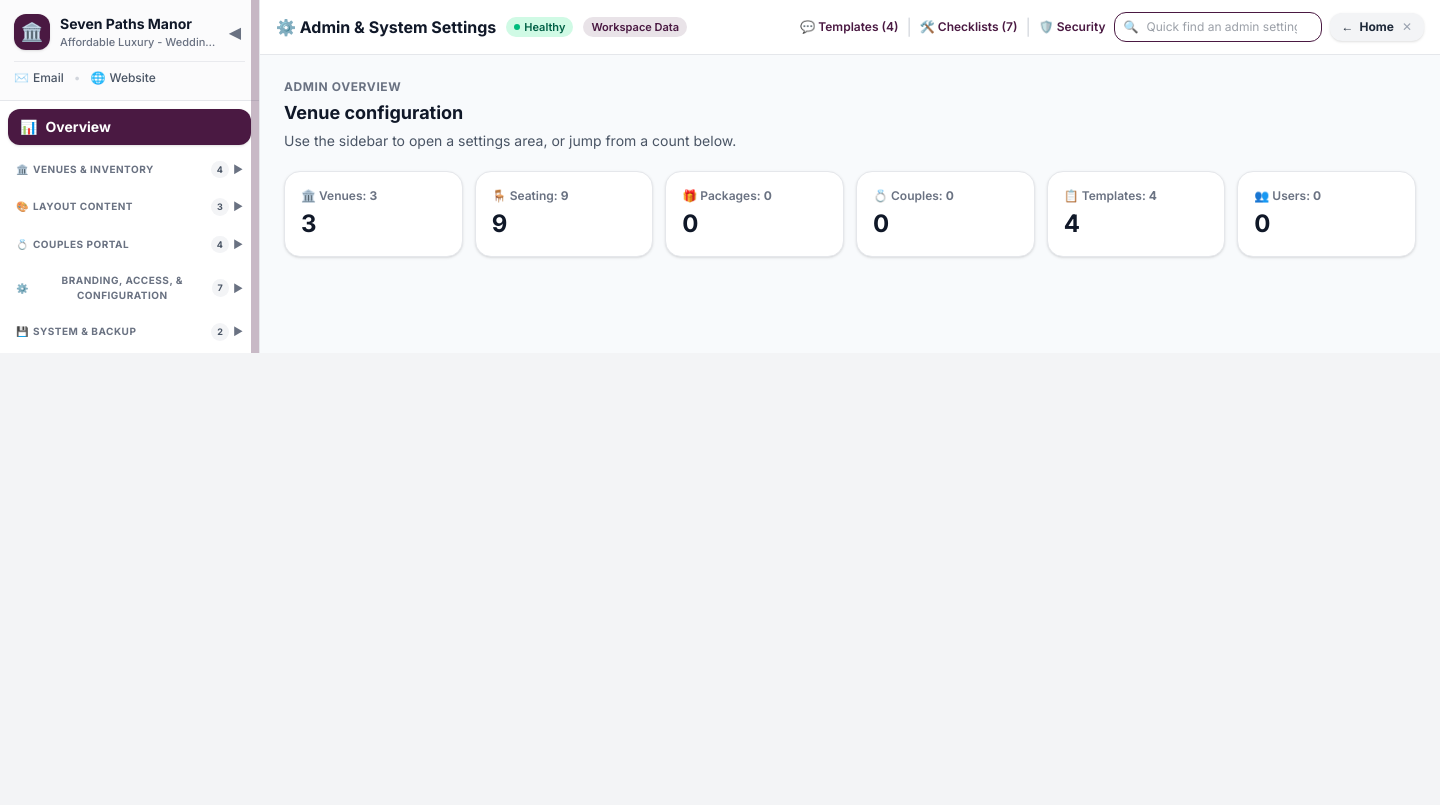
Test case: Admin & System Settings High-Density Executive UX (#155) › renders AdminPanel with the compact 2-row executive toolbar and interactive KPI jump buttons
Expected: the heading "⚙️ Admin & System Settings" is shown, [276,15,496,39]
Expected: the text "Healthy" is shown, [506,17,573,37]
Click the button "🪑 Seating: 9 9" at (564, 214), box [475,171,653,257]
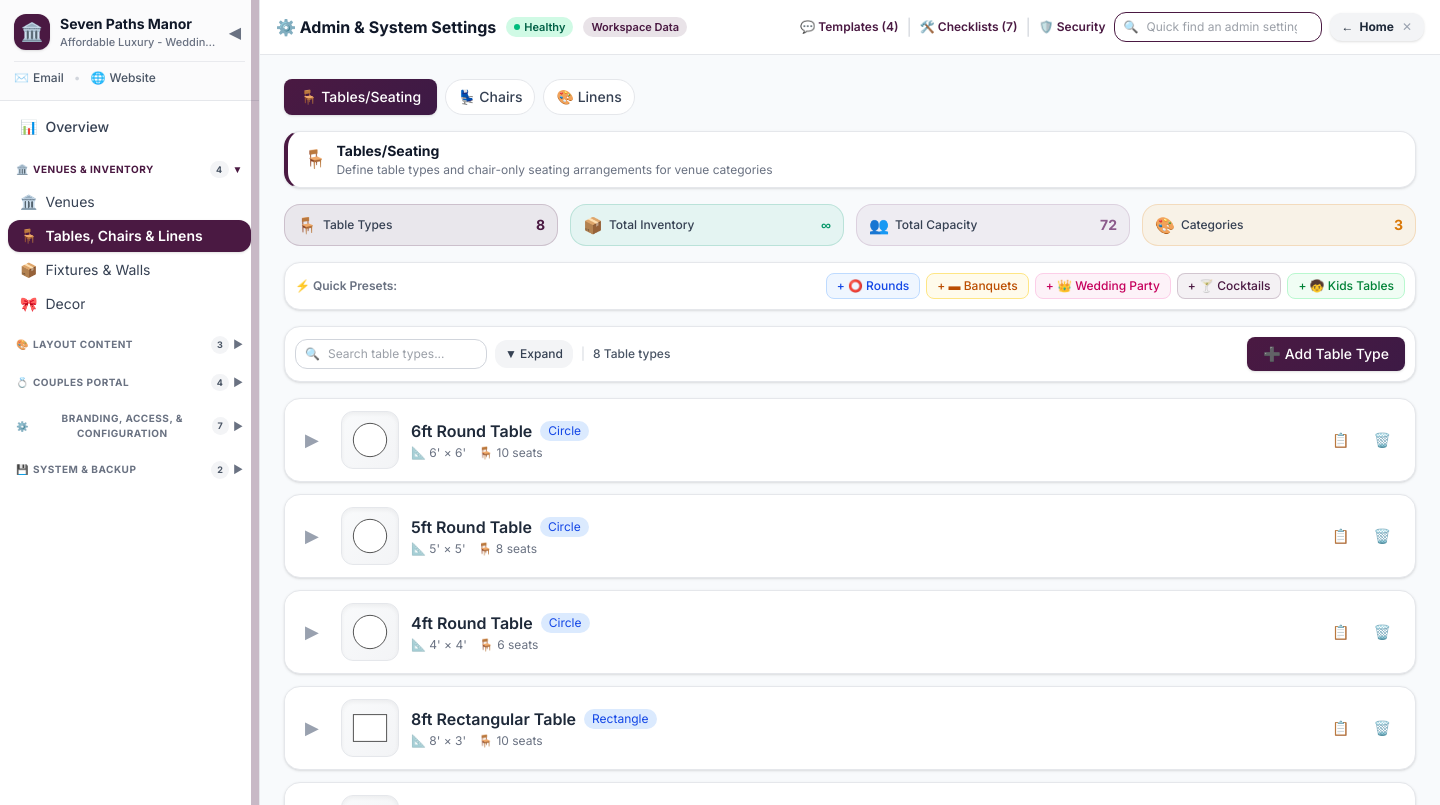
Expected: the button "+ ⭕ Rounds" is shown, [826,272,920,298]
